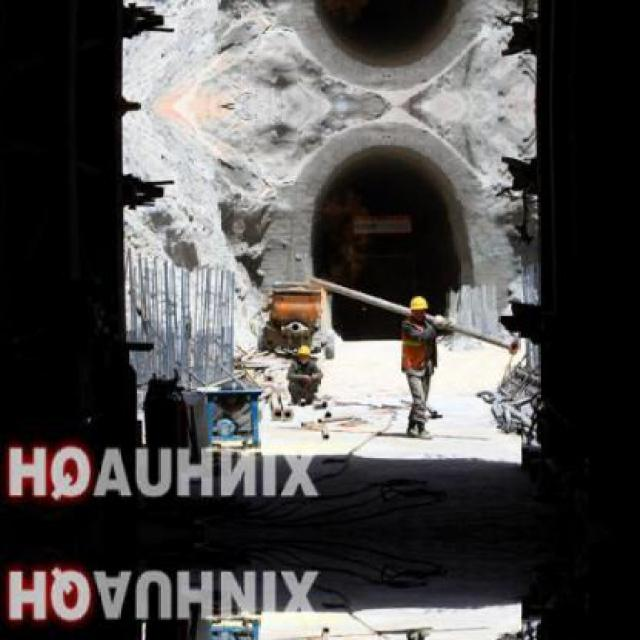Reflective-Jacket: (395, 316, 440, 376)
Safety-Helmet: (404, 293, 434, 316), (296, 342, 316, 361)
